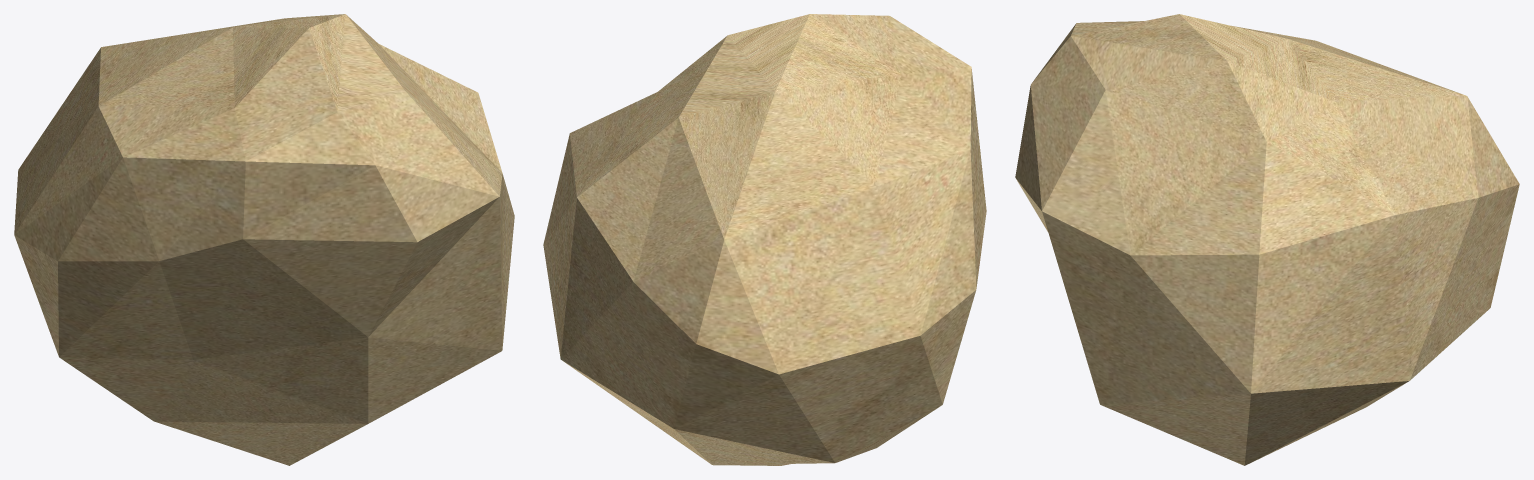
Rendered from Rock1.FBX.
3 renders of one model, left to right at view 1: azimuth 30°, elevation 25°; view 2: azimuth 150°, elevation 25°; view 3: azimuth 270°, elevation 25°, orthographic. The views are drawn at different scales.
Parts seen in each view (by area): view 1: Rock1; view 2: Rock1; view 3: Rock1.
Part boxes in pixels (x1,y1,x2,y2): Rock1: (14,14,514,465); Rock1: (543,14,986,465); Rock1: (1015,14,1519,465).
Bounding box in the file's own units: 4.64 × 4.45 × 4.6.
Materials: 1 (1 with a texture image).
